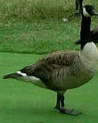goose: (3, 4, 98, 114)
